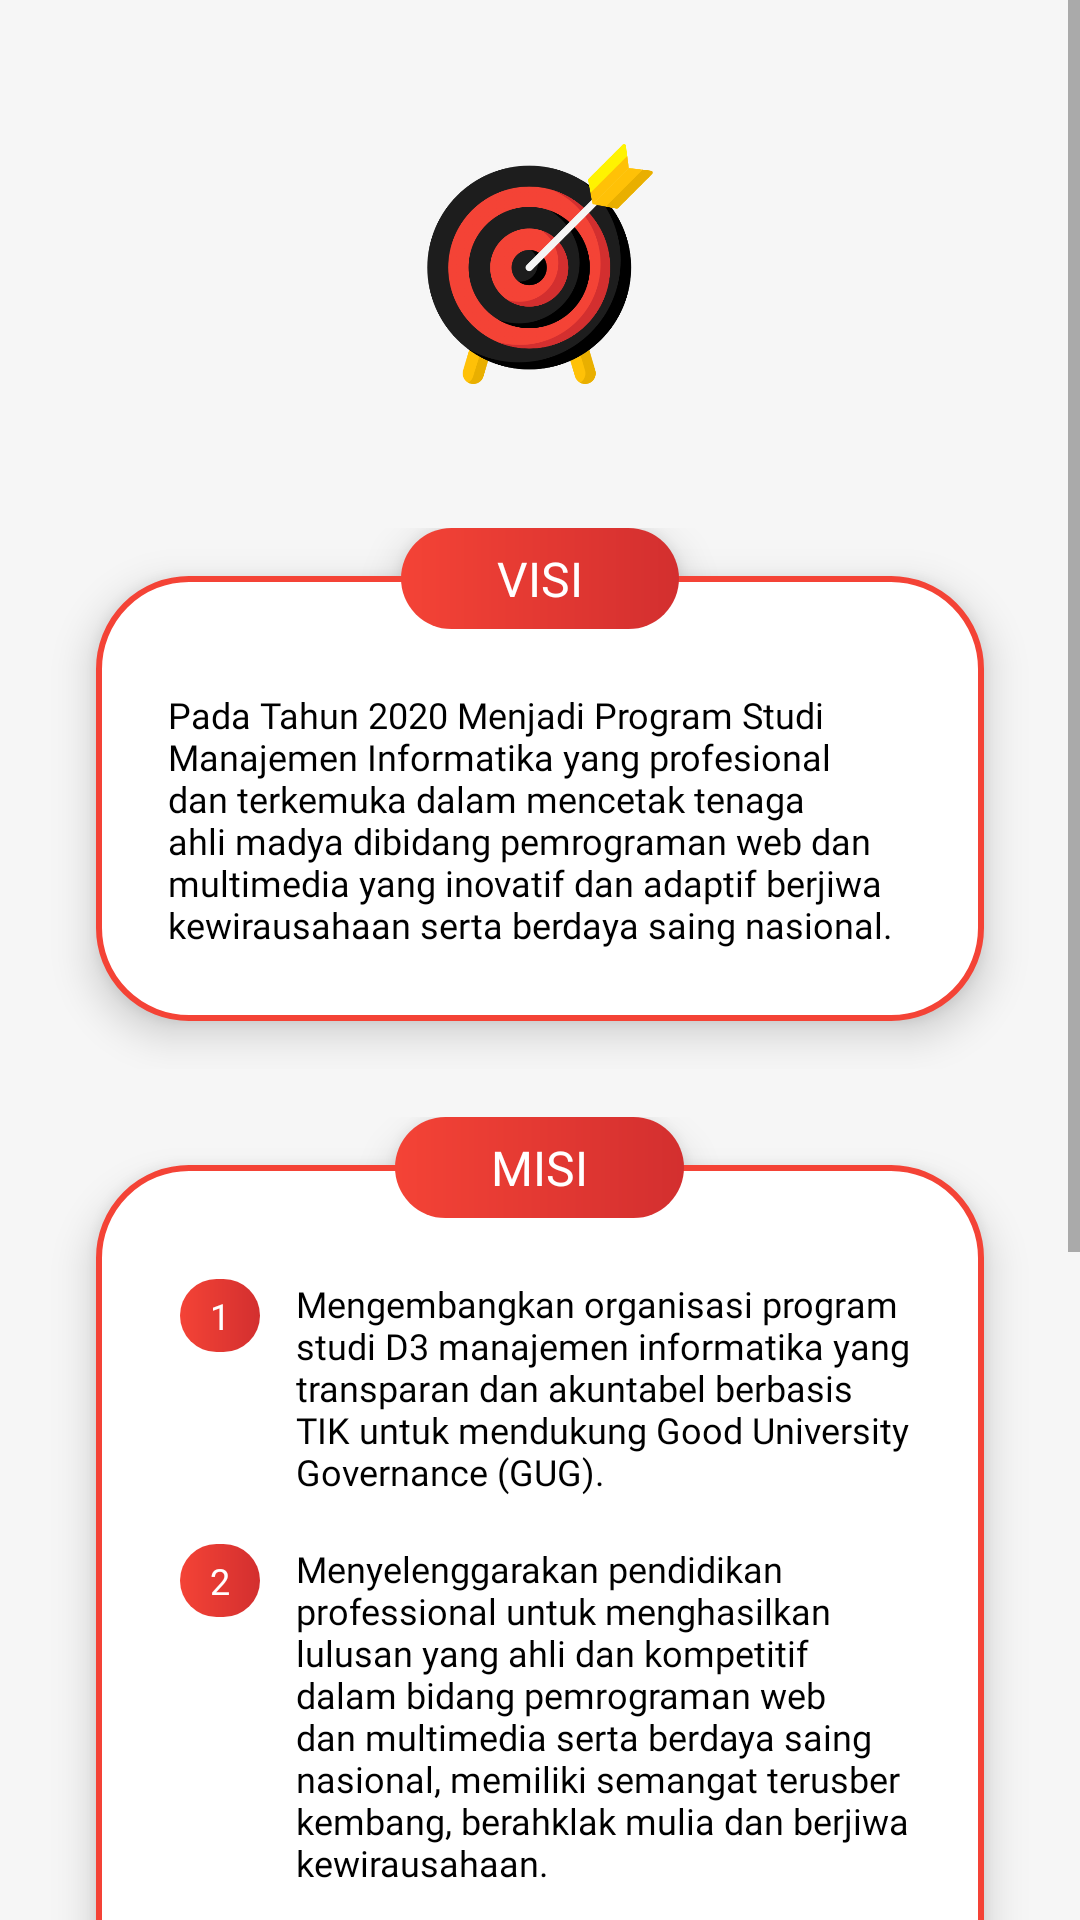

Screen size 1080px×1920px. Icon name, then its box in pixels as (x1, y1, x2, y2):
target: (427, 144, 653, 384)
